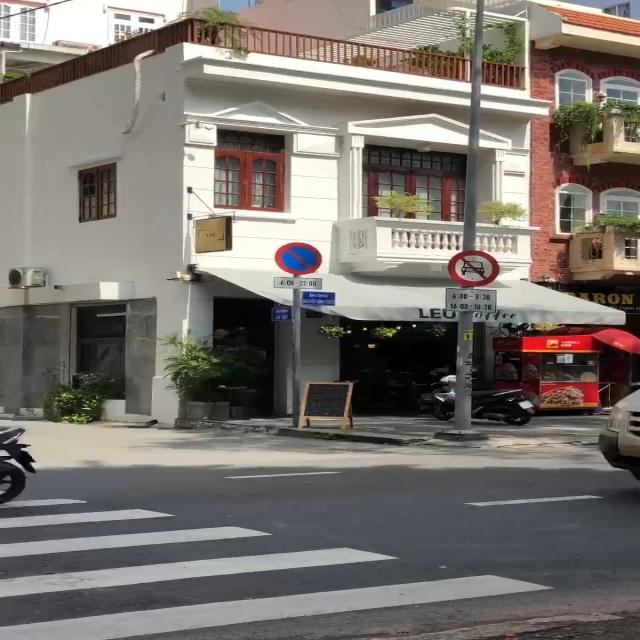Bien bao cam do xe: (271, 241, 326, 276)
Bien bao cam xe oto: (445, 248, 504, 288)
